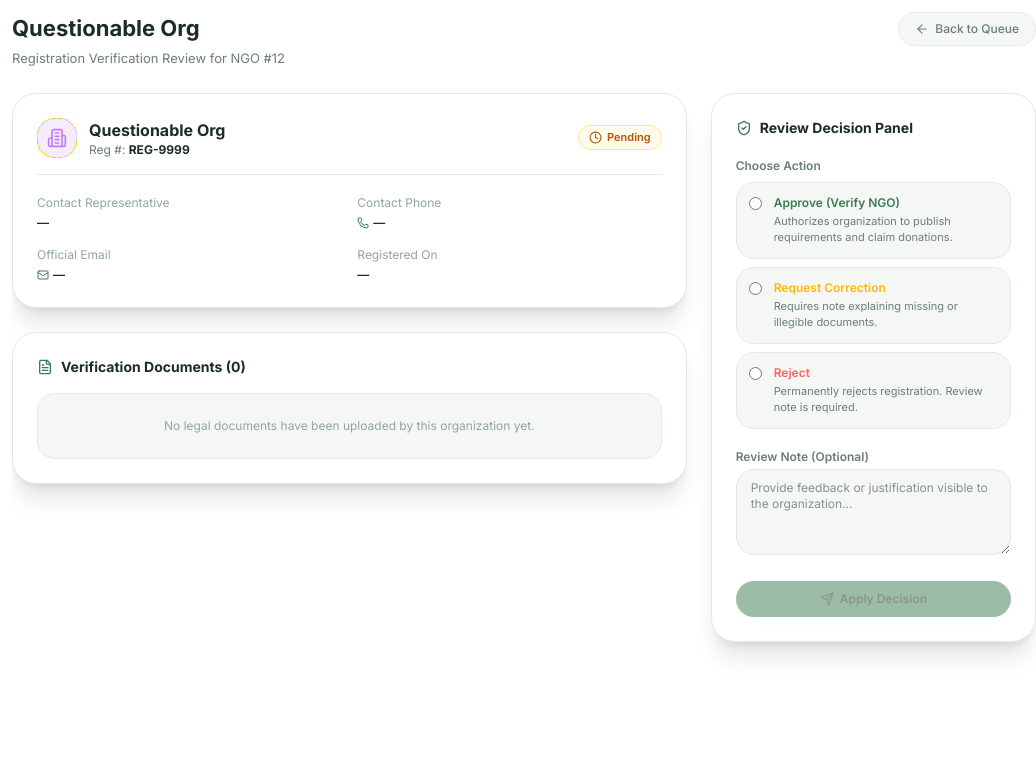
Test case: Phase 16: Administrator Frontend Tests › T-16.1-02 (V) Reject without note is blocked client-side
Expected: the heading "Questionable Org" in the row of "Back to Queue" is shown, [12,15,200,41]
Note: Select Reject
Click the radio button showing "reject": (755, 373) [749,366,762,380]
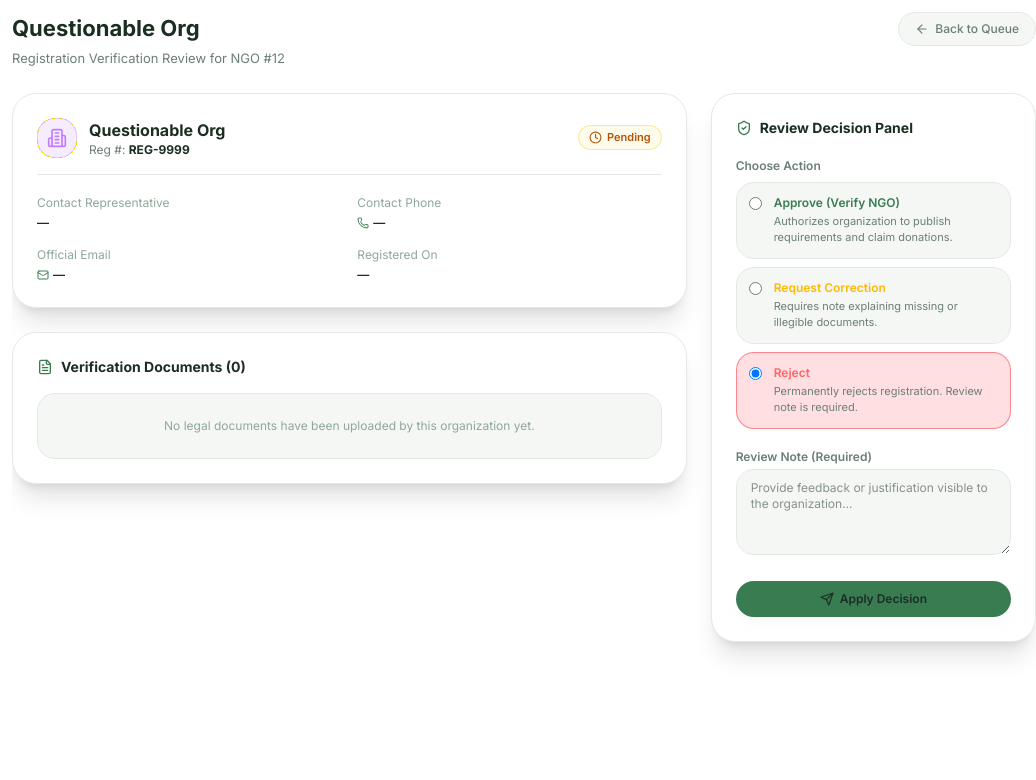
Note: Leave review note empty and submit
Click the button with id "submit-decision-btn": (873, 598) [736,580,1011,616]
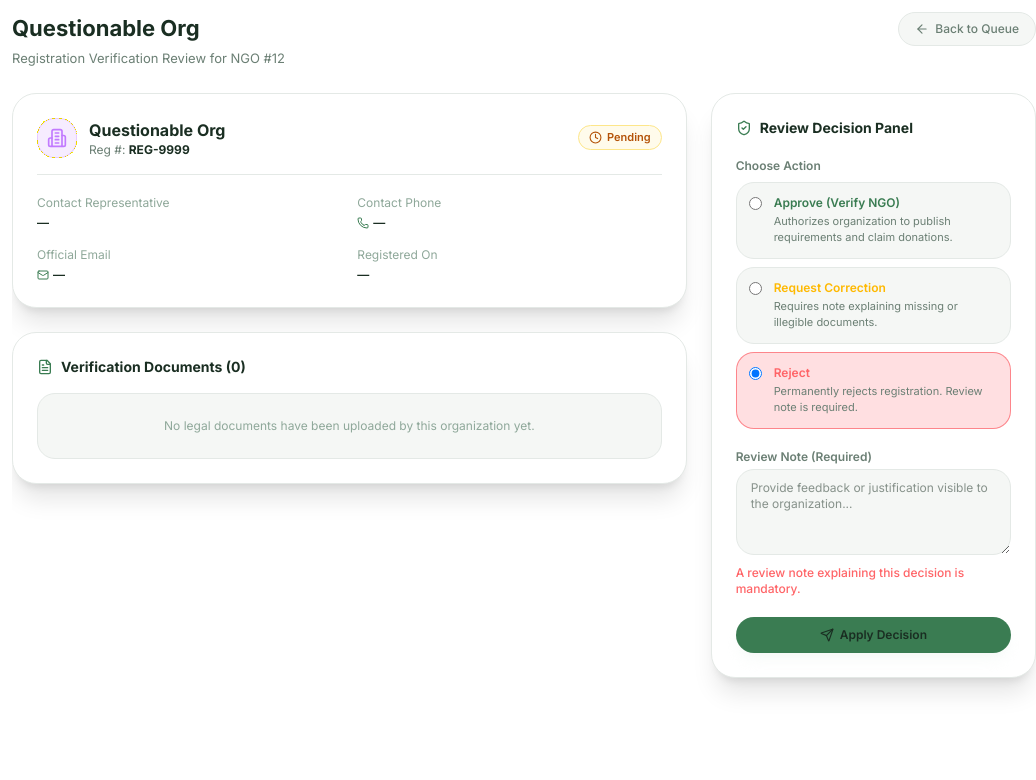
Expected: the text "A review note explaining this decision is mandatory." is shown, [736,564,964,596]
